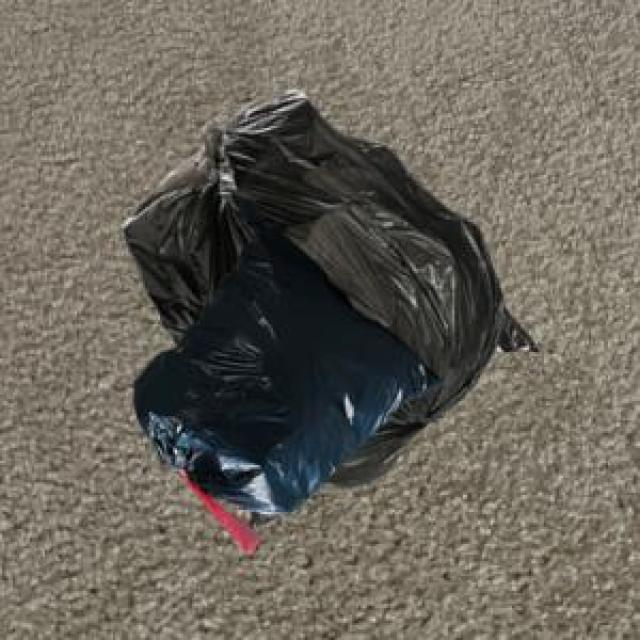Vinyl: (124, 90, 538, 553)
